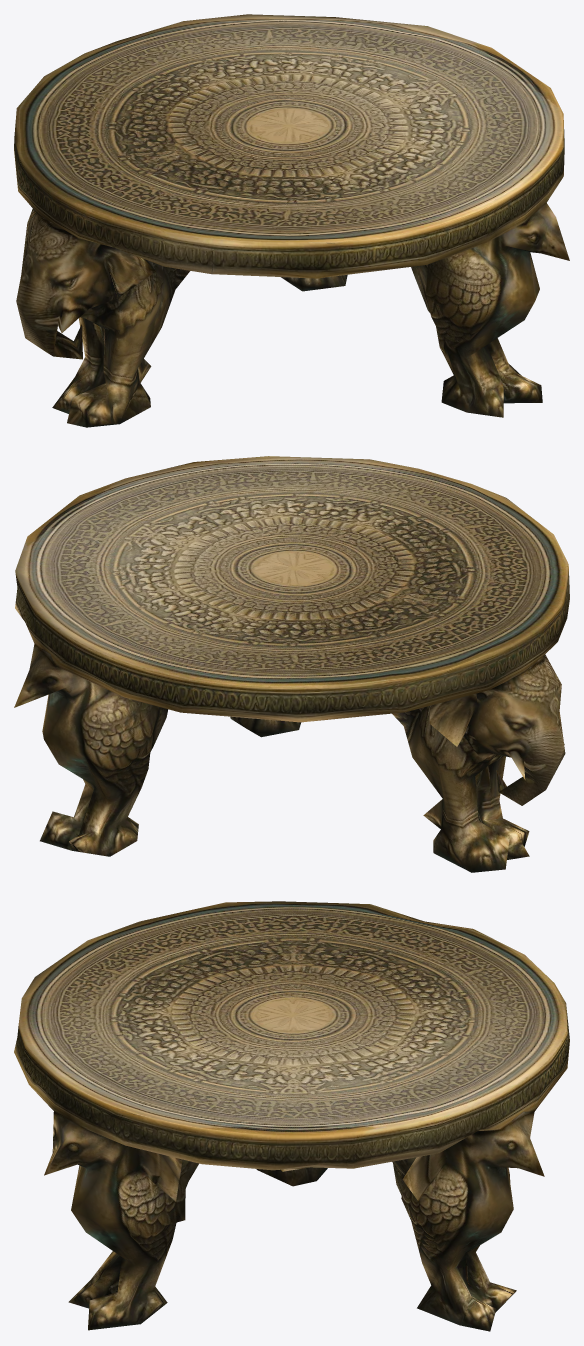
Rendered from decor-carving.glb.
3 views of the same model, one above another, from view 1: azimuth 30°, elevation 25°; view 2: azimuth 150°, elevation 25°; view 3: azimuth 270°, elevation 25° (orthographic).
Visible parts, largest first — view 1: Mesh1.0; view 2: Mesh1.0; view 3: Mesh1.0.
Part boxes in pixels (x1,y1,x2,y2): Mesh1.0: [14, 14, 569, 427]; Mesh1.0: [14, 456, 569, 872]; Mesh1.0: [14, 901, 569, 1331].
Size of the model in its own units: 1.91 by 0.8561 by 1.78.
1 material, 1 textured.
